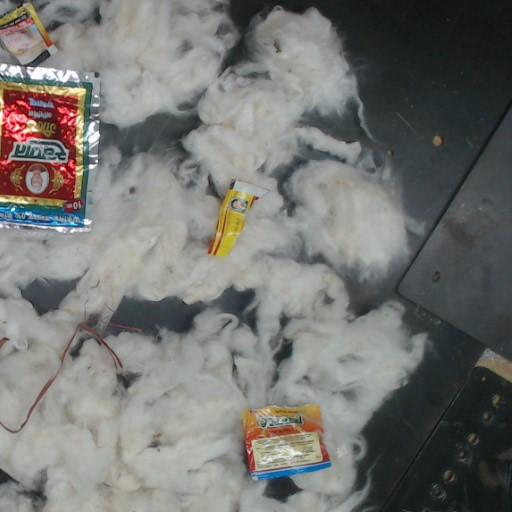cotton: (0, 0, 430, 511)
packet: (0, 63, 100, 230), (244, 406, 330, 479), (208, 180, 269, 256), (0, 4, 56, 65)
thread: (0, 321, 93, 433), (97, 334, 111, 352)
